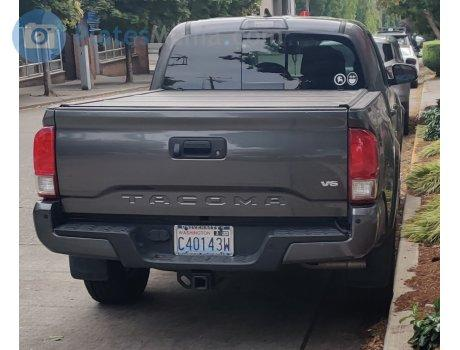licence: (171, 223, 236, 259)
